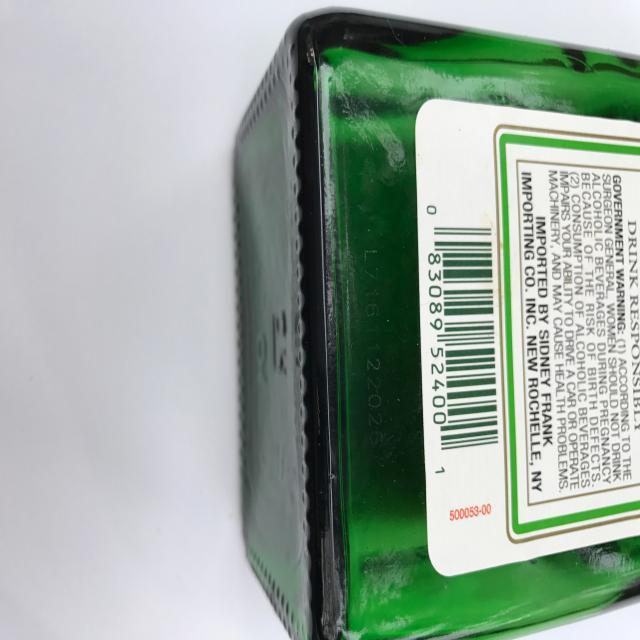glass: (228, 4, 640, 640)
